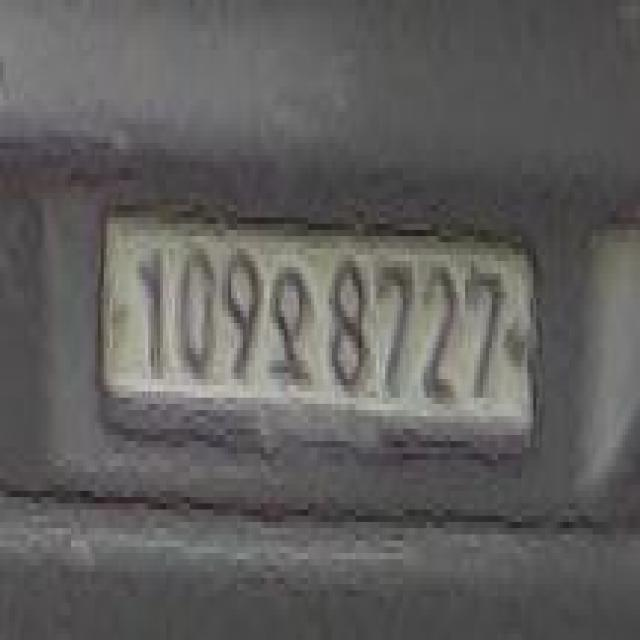illegal_plate: (95, 205, 540, 476)
